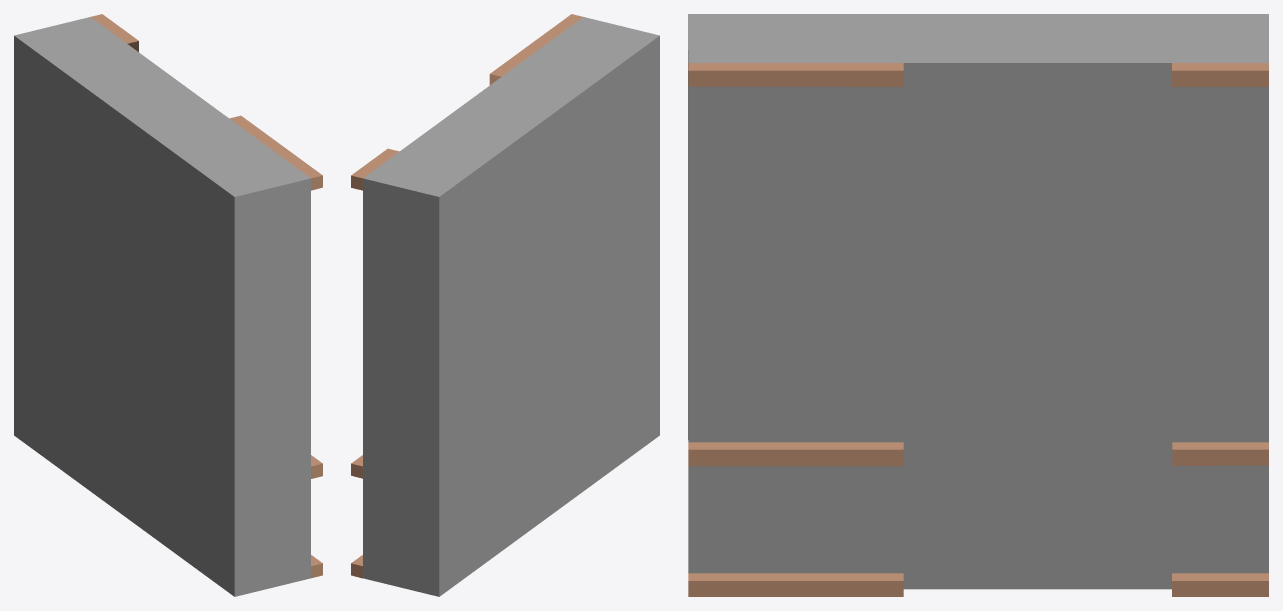
File: Wall_Midle_Full.fbx
3 renders of one model, left to right at view 1: azimuth 30°, elevation 25°; view 2: azimuth 150°, elevation 25°; view 3: azimuth 270°, elevation 25°, orthographic. The views are drawn at different scales.
Visible parts, largest first — view 1: mur_clean_passé78; view 2: mur_clean_passé78; view 3: mur_clean_passé78.
Part boxes in pixels (x1,y1,x2,y2): mur_clean_passé78: (14, 14, 322, 596); mur_clean_passé78: (351, 14, 659, 596); mur_clean_passé78: (688, 14, 1268, 596).
Size of the model in its own units: 1.16 by 5 by 5.
